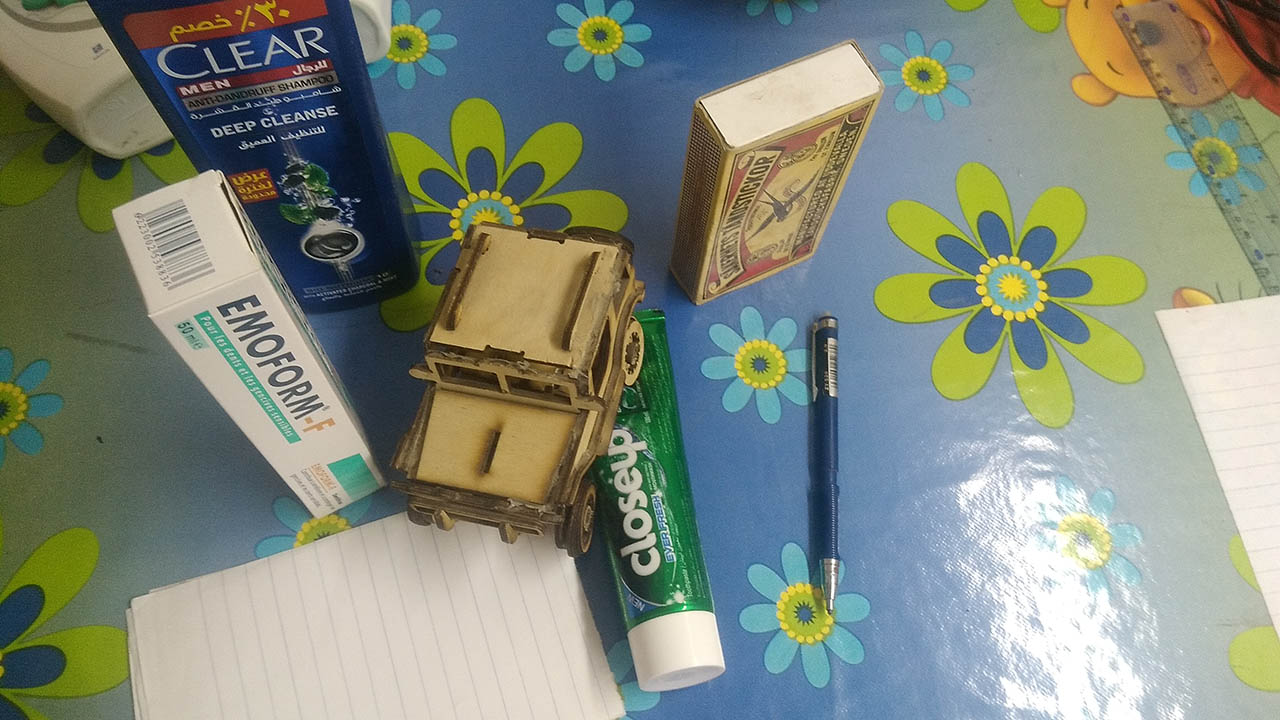Shampoo-Clear 4.7$: (110, 1, 421, 288)
Toothpaste-Closeup 3.04$: (582, 307, 729, 689)
Toothpaste-F 1.5$: (109, 200, 389, 526)
match-sticks .90$: (677, 34, 872, 300)
